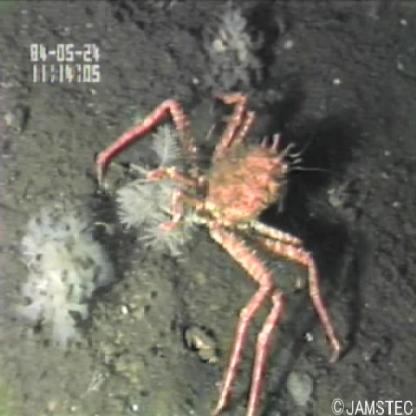Bio: (91, 83, 344, 416)
